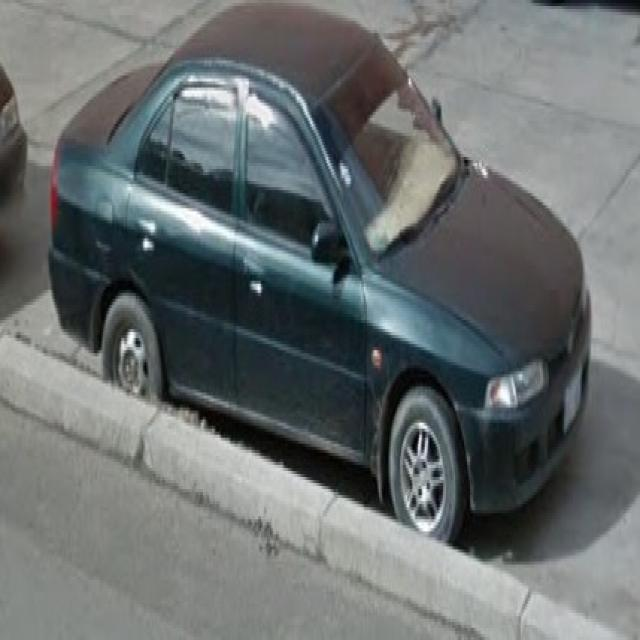cars: (46, 0, 590, 531)
